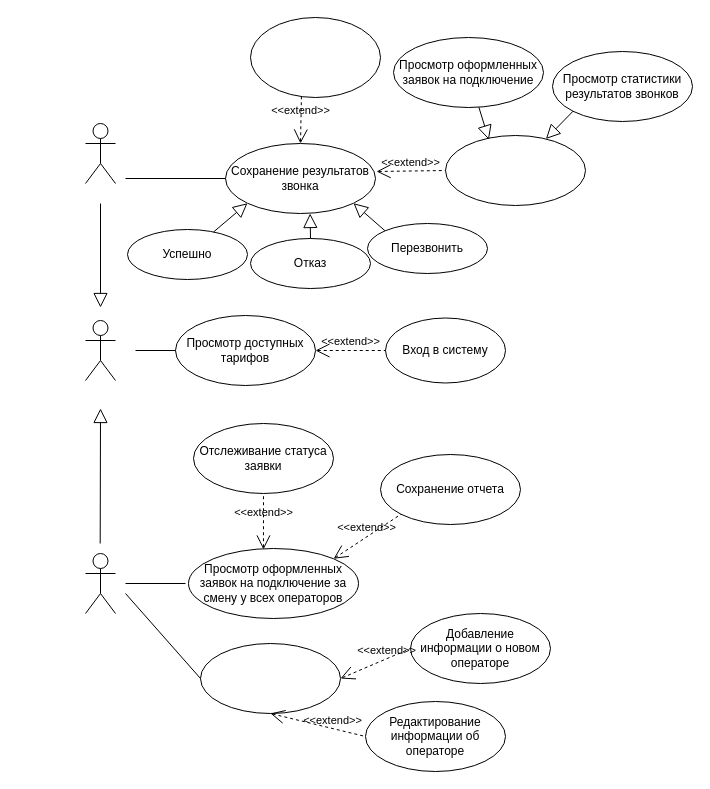
The diagram is 710 pixels wide and 789 high, and some of its shapes have lost their labels. Here are the shapes that lost their labels. From the top down, the centre of each, then its label:
At (315,57): "Оформление заявок на подключение услуг".
At (100,153): "Оператор".
At (515,170): "Просмотр личной статистики".
At (100,350): "Неавторизованный сотрудник".
At (100,583): "Супервайзер".
At (270,678): "Просмотр информации об операторах".
